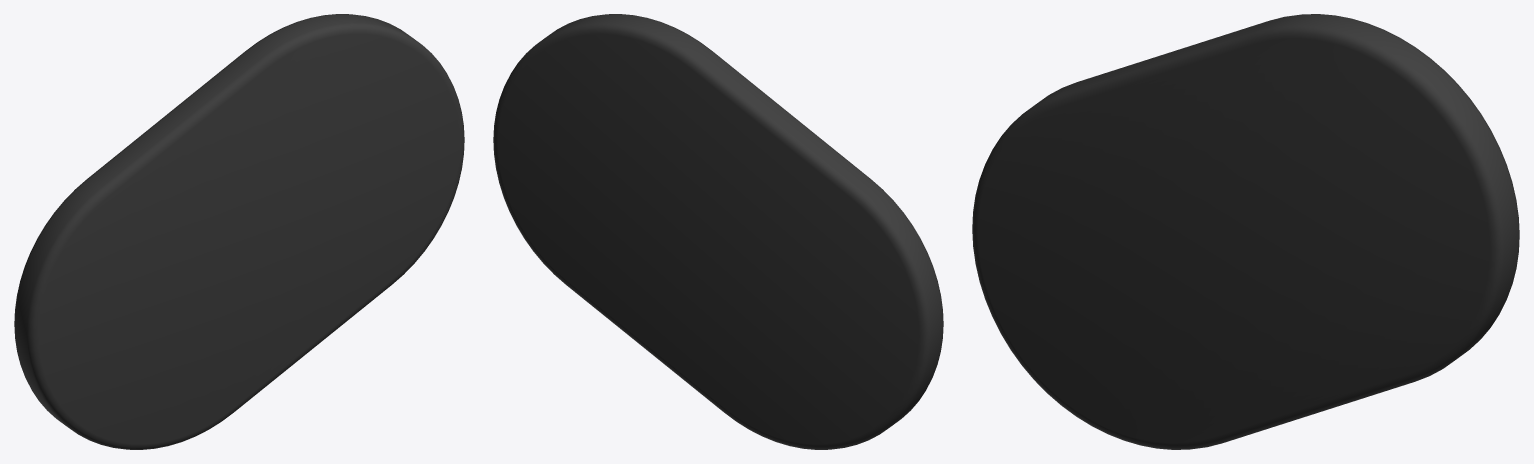
The model's file is A.Item.06b.glb.
3 renders of one model, left to right at view 1: azimuth 30°, elevation 25°; view 2: azimuth 150°, elevation 25°; view 3: azimuth 330°, elevation 25°, orthographic. The views are drawn at different scales.
Visible parts, largest first — view 1: A.Item.06b; view 2: A.Item.06b; view 3: A.Item.06b.
Part boxes in pixels (x1,y1,x2,y2): A.Item.06b: (14,14,464,449); A.Item.06b: (493,14,943,449); A.Item.06b: (972,14,1519,449).
Size of the model in its own units: 0.3424 by 0.285 by 0.0266.
1 material, 1 textured.
